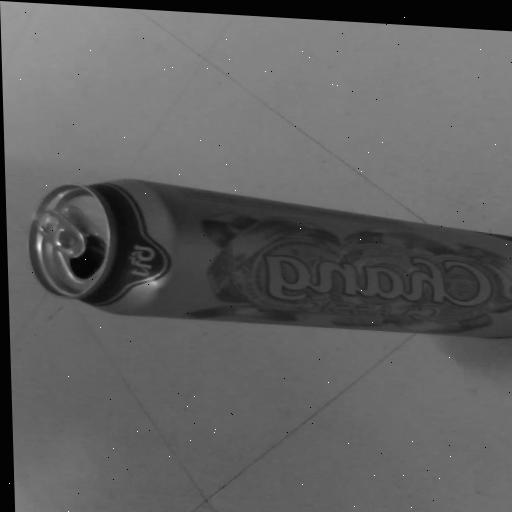canned: (16, 161, 512, 351)
